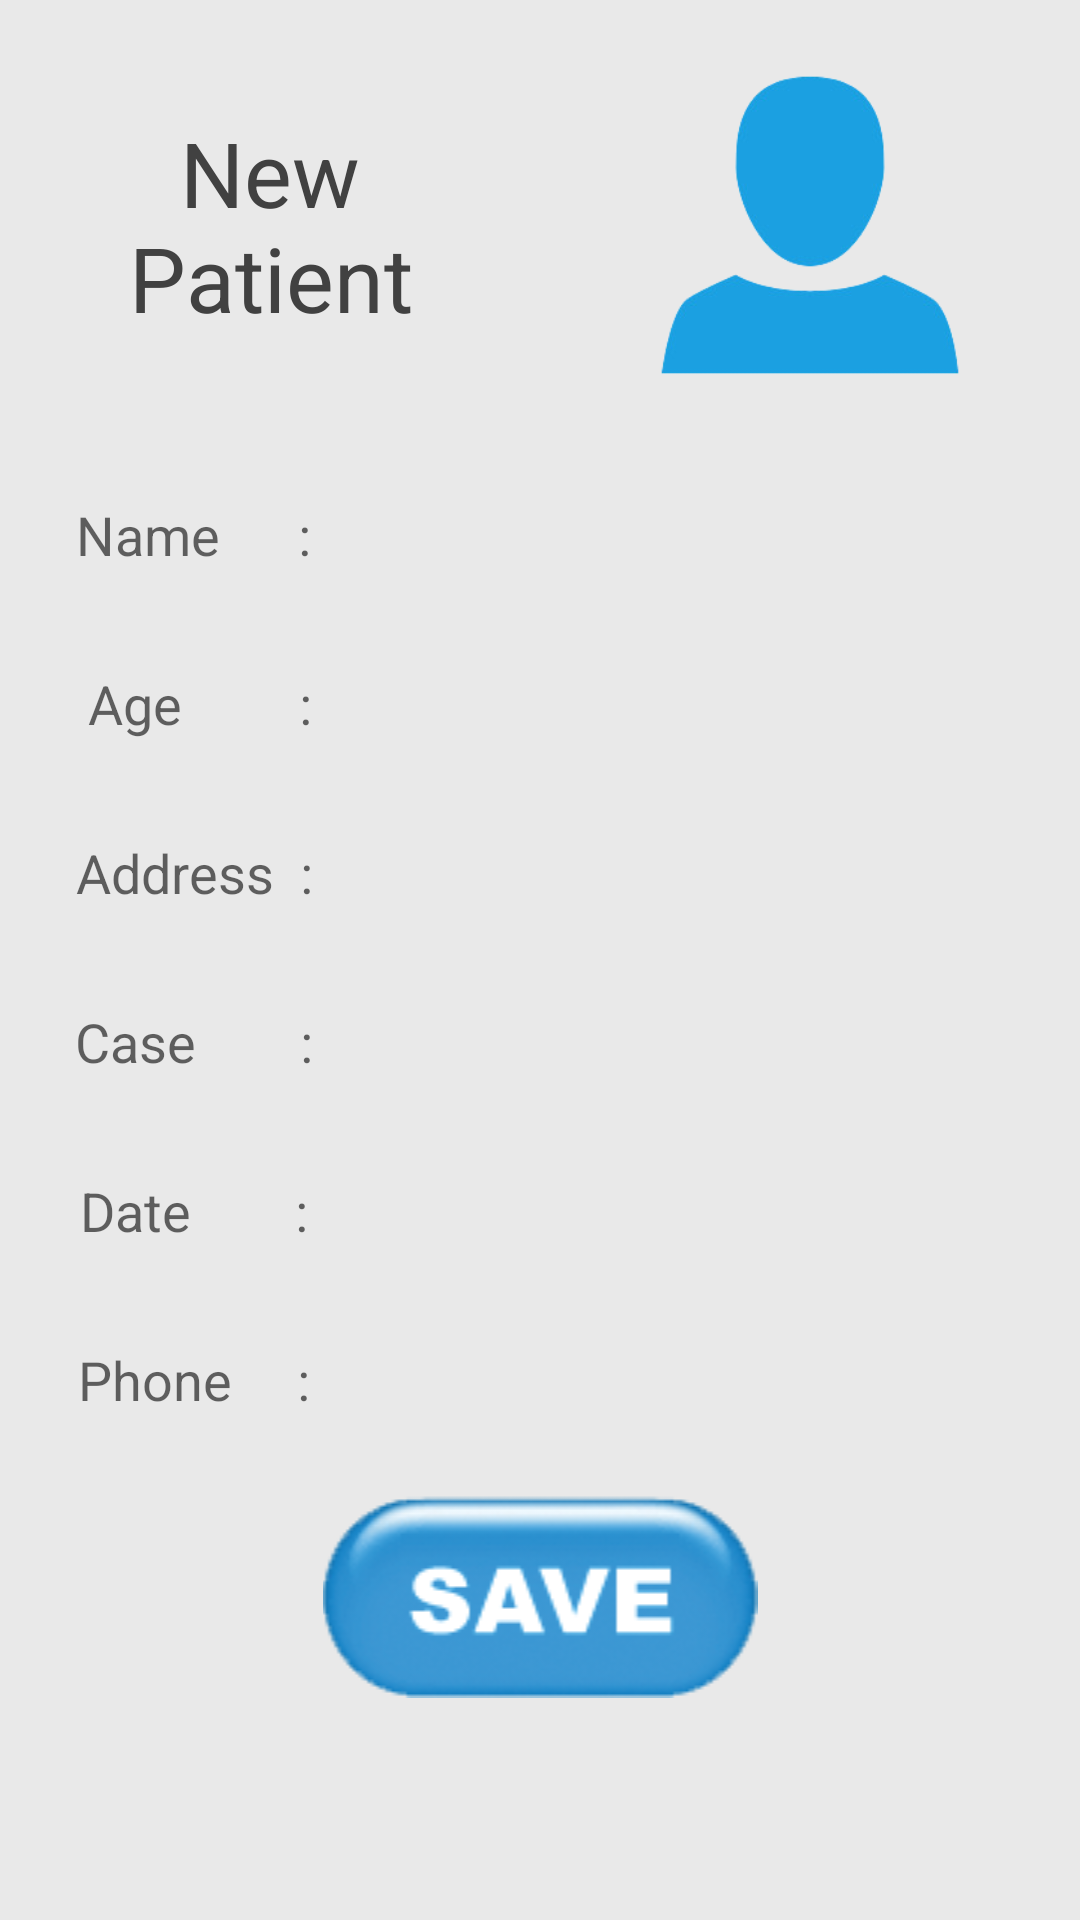

Screen size 1080px x 1920px. Icon name, then its box in pixels as (x1, y1, x2, y2):
patiant: (661, 76, 959, 374)
